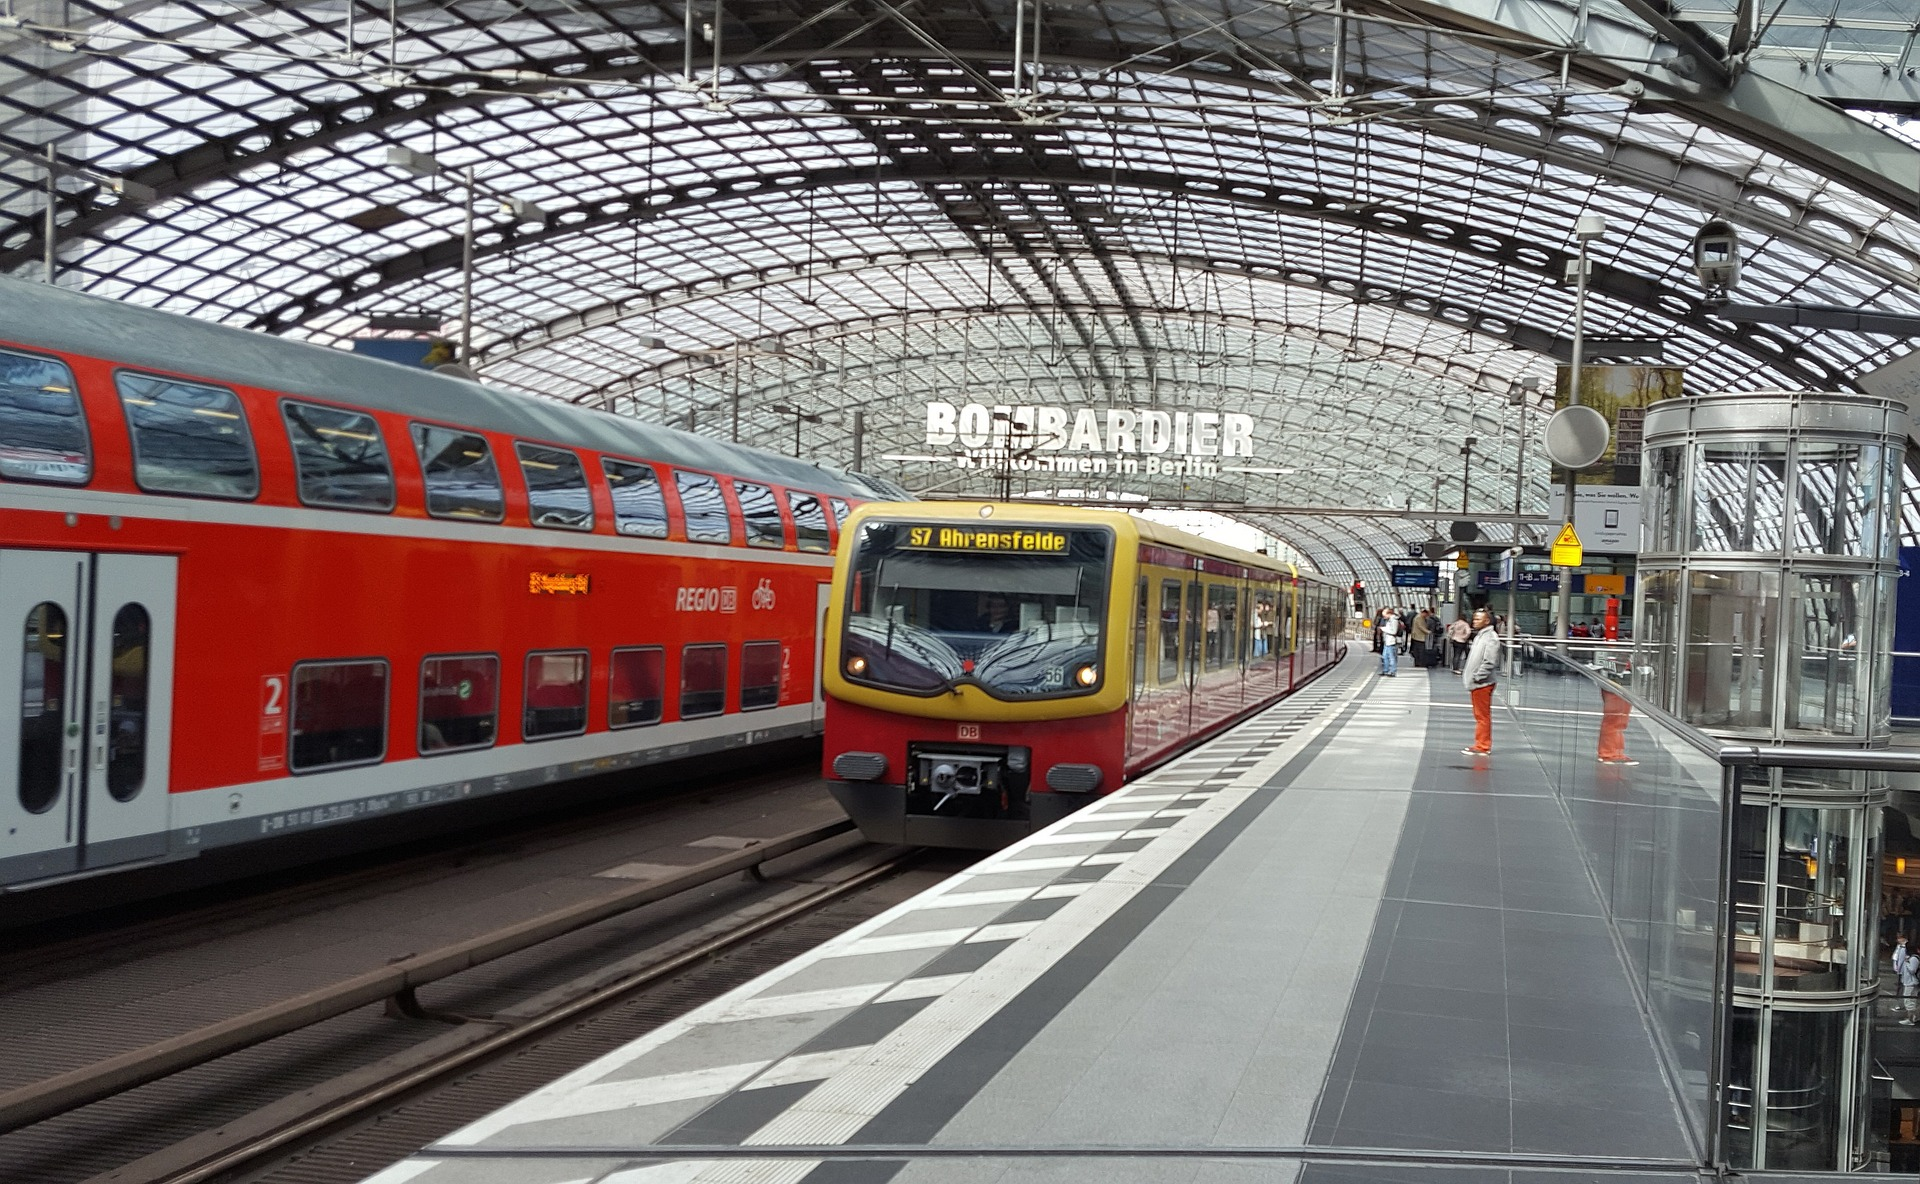train1: (4, 266, 814, 958)
train2: (803, 496, 1348, 858)
